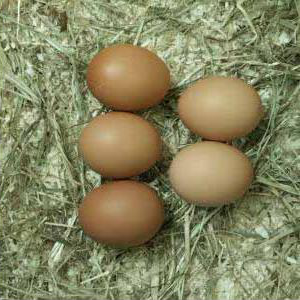egg: (79, 181, 167, 247), (177, 76, 264, 140), (167, 142, 254, 206), (88, 46, 171, 111), (80, 113, 162, 175)
